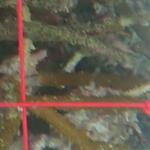alive: (1, 1, 150, 150)
